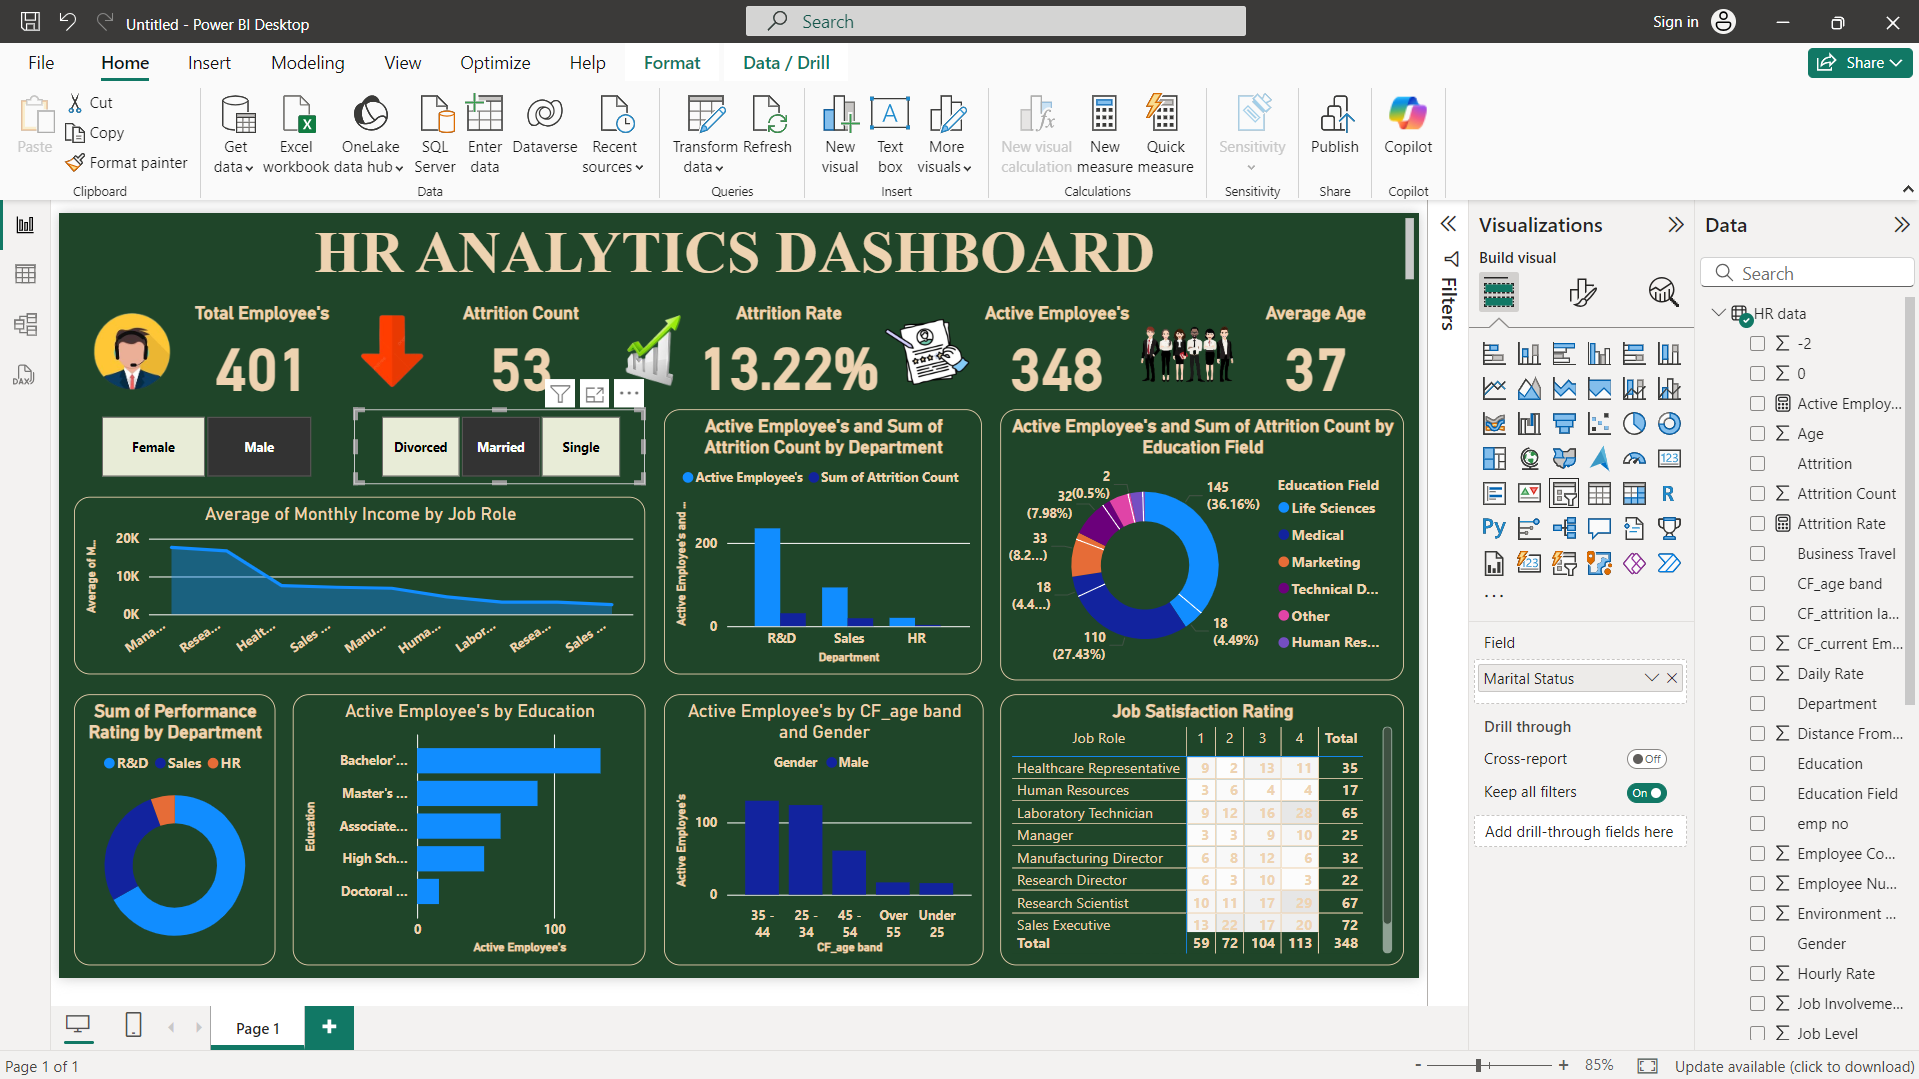

The page's visual inventory and layout, read from the dashboard file:
{"tool":"powerbi","page":{"name":"Page 1","canvas":[1280,720],"ordinal":0},"visuals":[{"type":"card","title":"Total Employee''s","fields":{"Values":["Sum(HR data.Employee Count)"]},"box":[108.2,83.1,166,94.7],"z":0},{"type":"clusteredColumnChart","fields":{"Category":["HR data.Department"],"Y":["HR data.Active Employee's","Sum(HR data.Attrition Count)"]},"box":[569.5,185.2,299.1,249.7],"z":0},{"type":"card","title":"Average Age","fields":{"Values":["Avg(HR data.Age)"]},"box":[1100.5,83.1,166,94.7],"z":1000},{"type":"donutChart","fields":{"Y":["HR data.Active Employee's","Sum(HR data.Attrition Count)"],"Category":["HR data.Education Field"]},"box":[886.5,185.2,380.1,255.2],"z":1000},{"type":"card","title":"Active Employee''s","fields":{"Values":["HR data.Active Employee's"]},"box":[856.8,83.1,166,94.7],"z":2000},{"type":"columnChart","fields":{"Y":["HR data.Active Employee's"],"Category":["HR data.CF_age band"],"Series":["HR data.Gender"]},"box":[569.5,452.8,300.5,255.2],"z":2000},{"type":"card","title":"Attrition Rate","fields":{"Values":["HR data.Attrition Rate"]},"box":[595.7,83.4,183.5,94.1],"z":3000},{"type":"pivotTable","title":"Job Satisfaction Rating","fields":{"Rows":["HR data.Job Role"],"Columns":["HR data.Job Satisfaction"],"Values":["HR data.Active Employee's"]},"box":[886.5,452.8,380.1,255.2],"z":3000},{"type":"card","title":"Attrition Count","fields":{"Values":["Sum(HR data.Attrition Count)"]},"box":[351.9,83.1,166,94.7],"z":4000},{"type":"donutChart","fields":{"Y":["Sum(HR data.Performance Rating)"],"Category":["HR data.Department"]},"box":[13.7,452.8,189.4,255.2],"z":4000},{"type":"clusteredBarChart","fields":{"Category":["HR data.Education"],"Y":["HR data.Active Employee's"]},"box":[219.6,452.8,332.1,255.2],"z":5000},{"type":"areaChart","fields":{"Category":["HR data.Job Role"],"Y":["Avg(HR data.Monthly Income)"]},"box":[13.7,267.6,537.9,167.4],"z":6000},{"type":"slicer","fields":{"Values":["HR data.Gender"]},"box":[13.7,185.2,247,70],"z":7000},{"type":"slicer","fields":{"Values":["HR data.Marital Status"]},"box":[277.2,185.2,274.4,70],"z":8000},{"type":"image","box":[768,79.9,100,101.2],"z":10000},{"type":"image","box":[263,80.4,100.2,100.2],"z":11000},{"type":"image","box":[1011.6,80.4,100.2,100.2],"z":12000},{"type":"image","box":[506.7,80.4,100.2,100.2],"z":13000},{"type":"image","box":[19.2,80.4,100.2,100.2],"z":14000},{"type":"textbox","box":[0,0,1280.3,78.2],"z":15000}]}

Visuals, with their boxes on the page's 1280x720 design canvas (x1, y1, x2, y2). These are canvas units, not pixel positions in the 1919x1079 screenshot, which may show the page scaled, cropped or inside an application window:
"Total Employee''s" card: 108 83 274 178
clusteredColumnChart - HR data.Department x HR data.Active Employee's: 570 185 869 435
"Average Age" card: 1100 83 1266 178
donutChart - HR data.Active Employee's x Sum(HR data.Attrition Count): 886 185 1267 440
"Active Employee''s" card: 857 83 1023 178
columnChart - HR data.Active Employee's x HR data.CF_age band: 570 453 870 708
"Attrition Rate" card: 596 83 779 178
"Job Satisfaction Rating" pivotTable: 886 453 1267 708
"Attrition Count" card: 352 83 518 178
donutChart - Sum(HR data.Performance Rating) x HR data.Department: 14 453 203 708
clusteredBarChart - HR data.Education x HR data.Active Employee's: 220 453 552 708
areaChart - HR data.Job Role x Avg(HR data.Monthly Income): 14 268 552 435
slicer - HR data.Gender: 14 185 261 255
slicer - HR data.Marital Status: 277 185 552 255
image: 768 80 868 181
image: 263 80 363 181
image: 1012 80 1112 181
image: 507 80 607 181
image: 19 80 119 181
textbox: 0 0 1280 78
